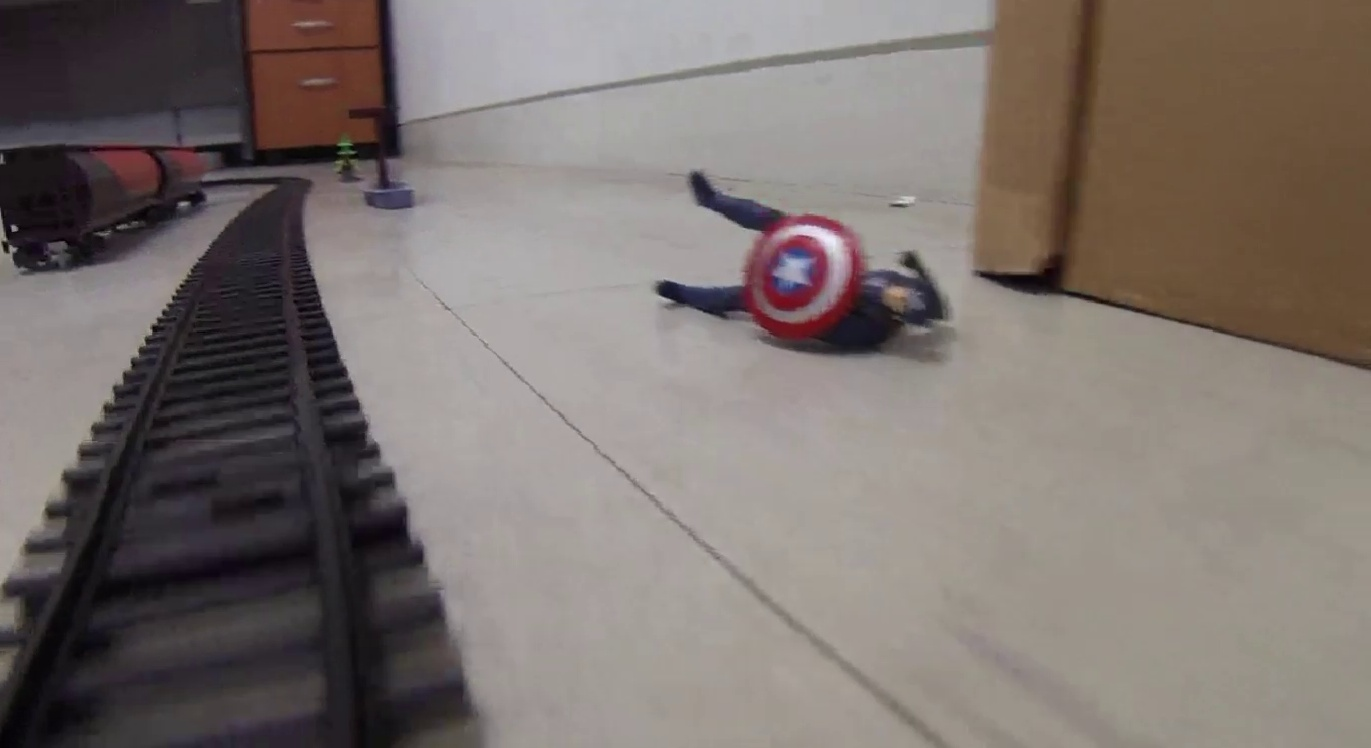people: (656, 169, 951, 360)
